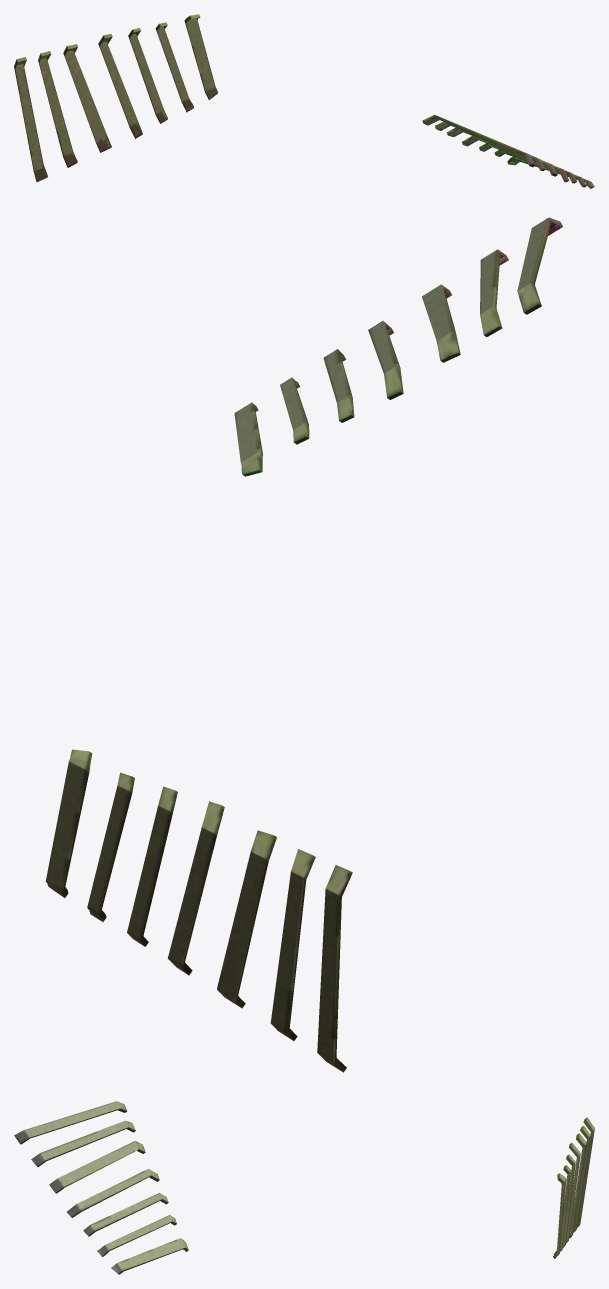
File: pegasus_laces.glb
The picture shows the model from 3 angles, top to bottom: view 1: azimuth 30°, elevation 25°; view 2: azimuth 150°, elevation 25°; view 3: azimuth 270°, elevation 25°; orthographic projection. The views are drawn at different scales.
Parts seen in each view (by area): view 1: pegasus_laces; view 2: pegasus_laces; view 3: pegasus_laces.
Boxes of the visible parts, left/top/right/bottom form: pegasus_laces: left=14, top=14, right=594, bottom=188; pegasus_laces: left=45, top=217, right=562, bottom=1072; pegasus_laces: left=14, top=1101, right=594, bottom=1274.
Size of the model in its own units: 1.14 by 0.7359 by 1.98.
1 material, 1 textured.
